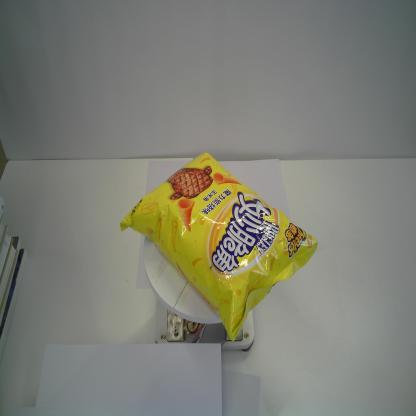Puffed Food: (119, 149, 320, 341)
